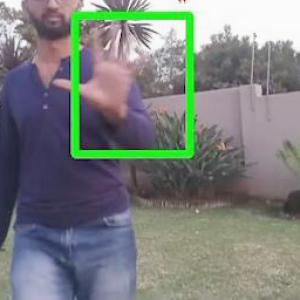follow_hand: (51, 12, 156, 117)
